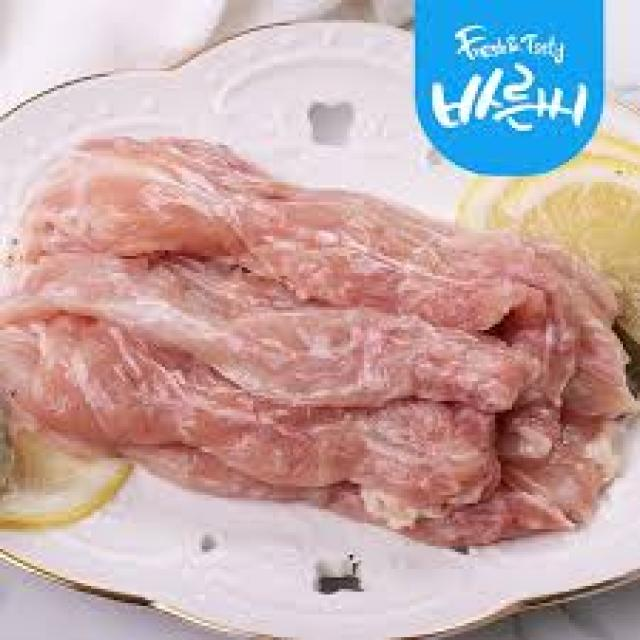chicken: (0, 135, 636, 555)
